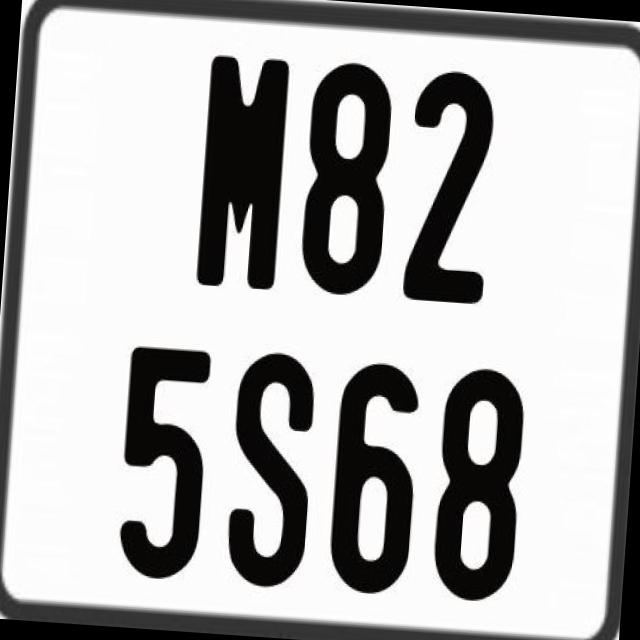2: (402, 64, 502, 301)
5: (112, 345, 214, 589)
6: (325, 360, 420, 605)
8: (293, 60, 395, 306), (426, 364, 526, 604)
M: (192, 49, 288, 293)
S: (224, 345, 320, 583)
